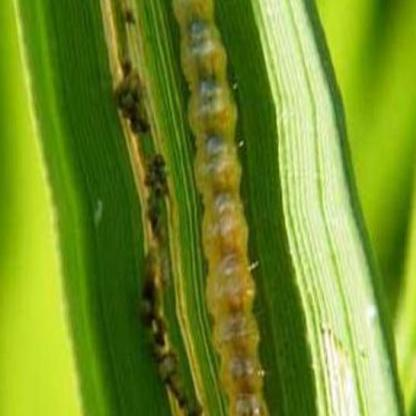leaf-folder: (156, 16, 275, 402)
